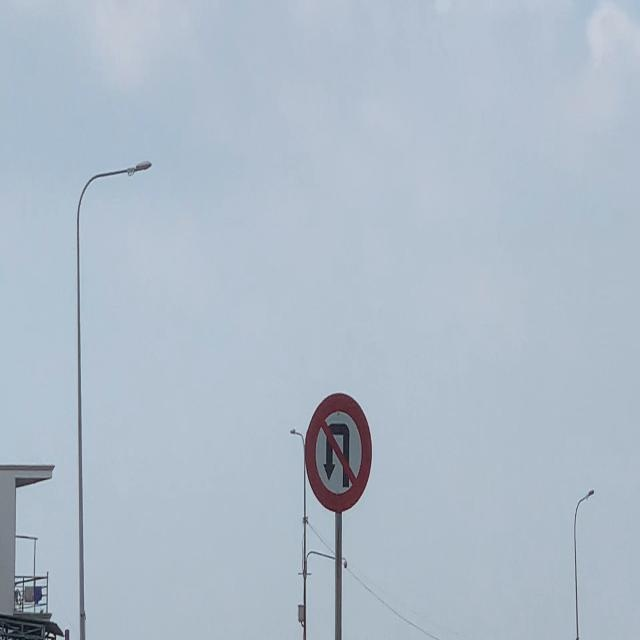bien_cam: (302, 384, 378, 519)
